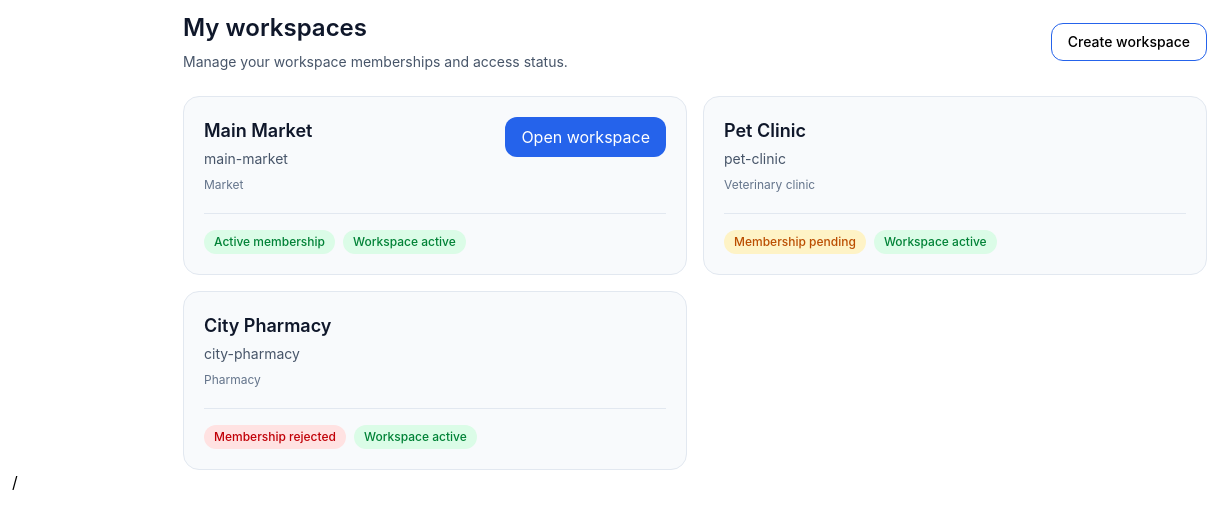
MyWorkspacesPage › allows opening a workspace only when both statuses are active
Expected: the text "Main Market" is shown, [204,120,312,141]
Expected: the text "Pet Clinic" is shown, [724,120,806,141]
Click the button "Open workspace" at {"x": 586, "y": 137}, box [505,117,666,157]
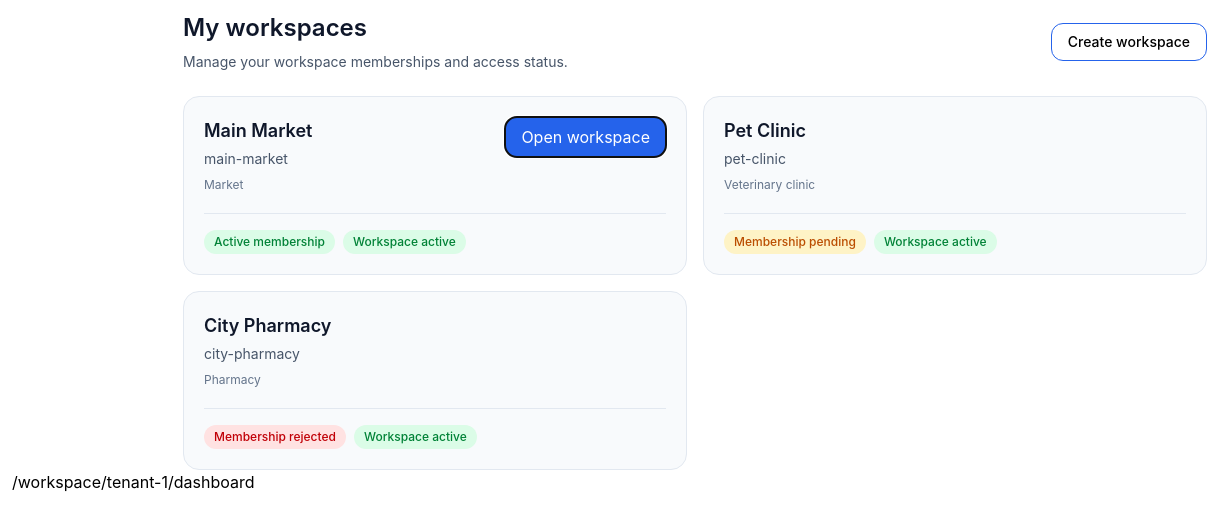
Now the text with test id "location" reads "/workspace/tenant-1/dashboard", box [12,472,254,492]
